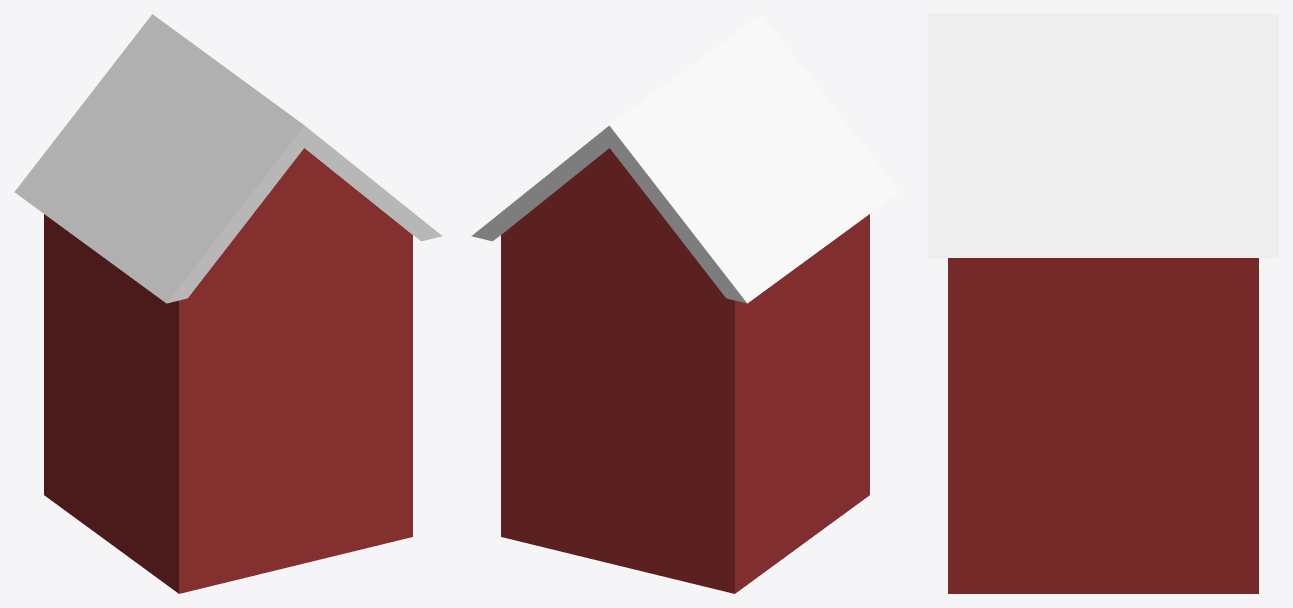
The model's file is HouseObj.fbx.
The picture shows the model from 3 angles, left to right: view 1: azimuth 30°, elevation 25°; view 2: azimuth 150°, elevation 25°; view 3: azimuth 270°, elevation 25°; orthographic projection. The views are drawn at different scales.
Parts seen in each view (by area): view 1: House; view 2: House; view 3: House.
Boxes of the visible parts, x1,y1,x2,y2 form: House: [14, 14, 442, 593]; House: [471, 14, 899, 593]; House: [928, 14, 1278, 593].
Bounding box in the file's own units: 945 × 1460 × 903.
